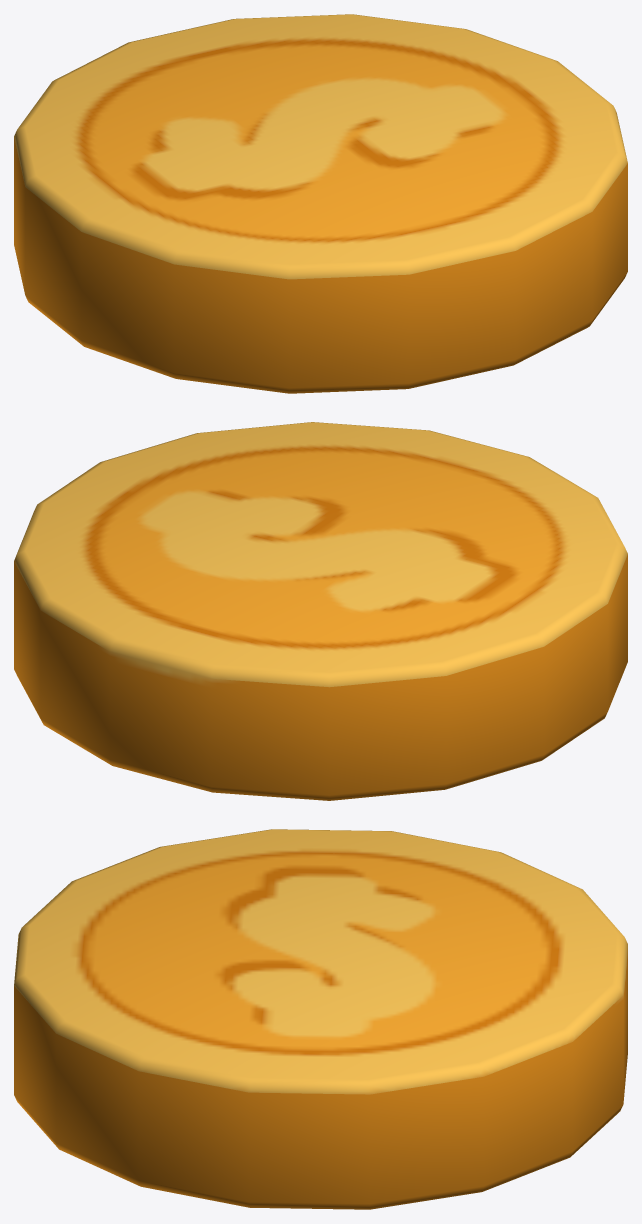
Rendered from Coin.fbx.
3 renders of one model, top to bottom at view 1: azimuth 30°, elevation 25°; view 2: azimuth 150°, elevation 25°; view 3: azimuth 270°, elevation 25°, orthographic.
Parts seen in each view (by area): view 1: Coin; view 2: Coin; view 3: Coin.
Boxes of the visible parts, x1,y1,x2,y2 form: Coin: [14, 14, 627, 393]; Coin: [14, 422, 627, 800]; Coin: [14, 829, 627, 1209].
Size of the model in its own units: 197 by 46.07 by 197.
